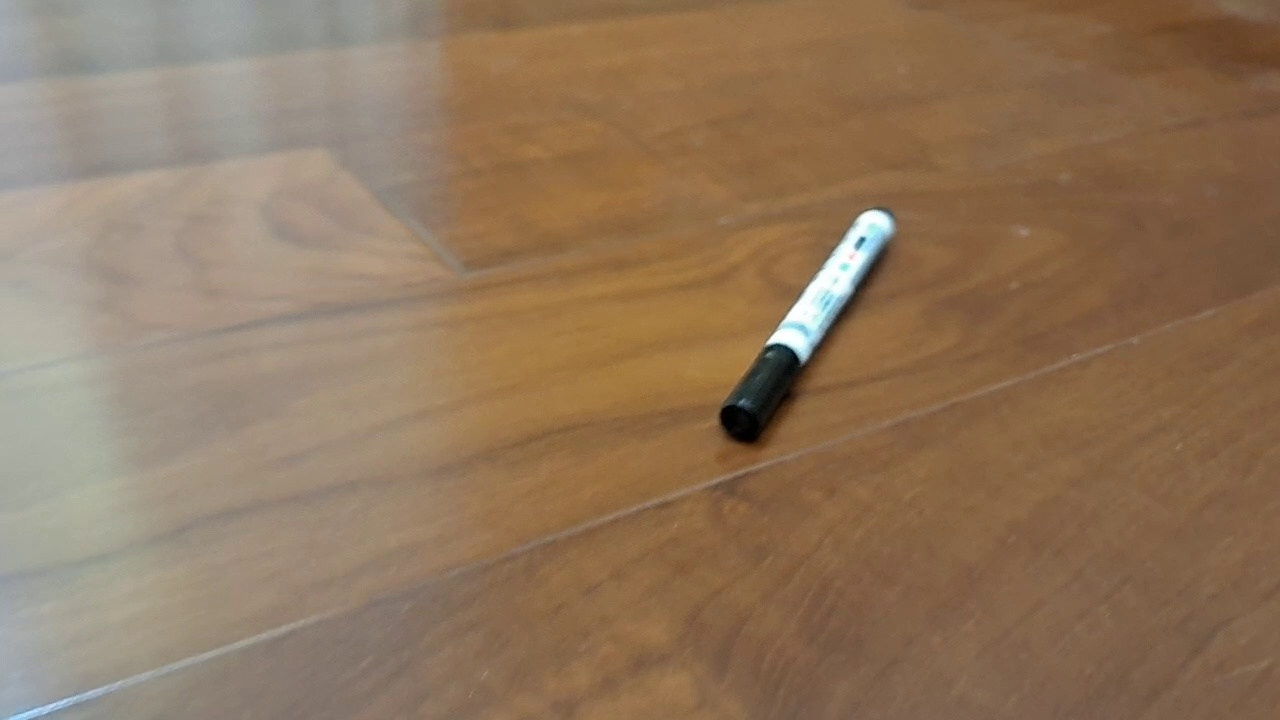pen: (718, 205, 899, 444)
